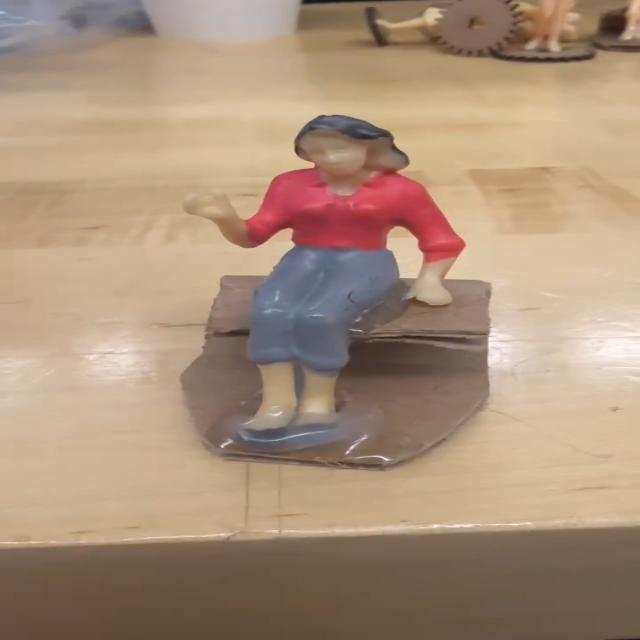Authorized: (189, 109, 459, 453)
